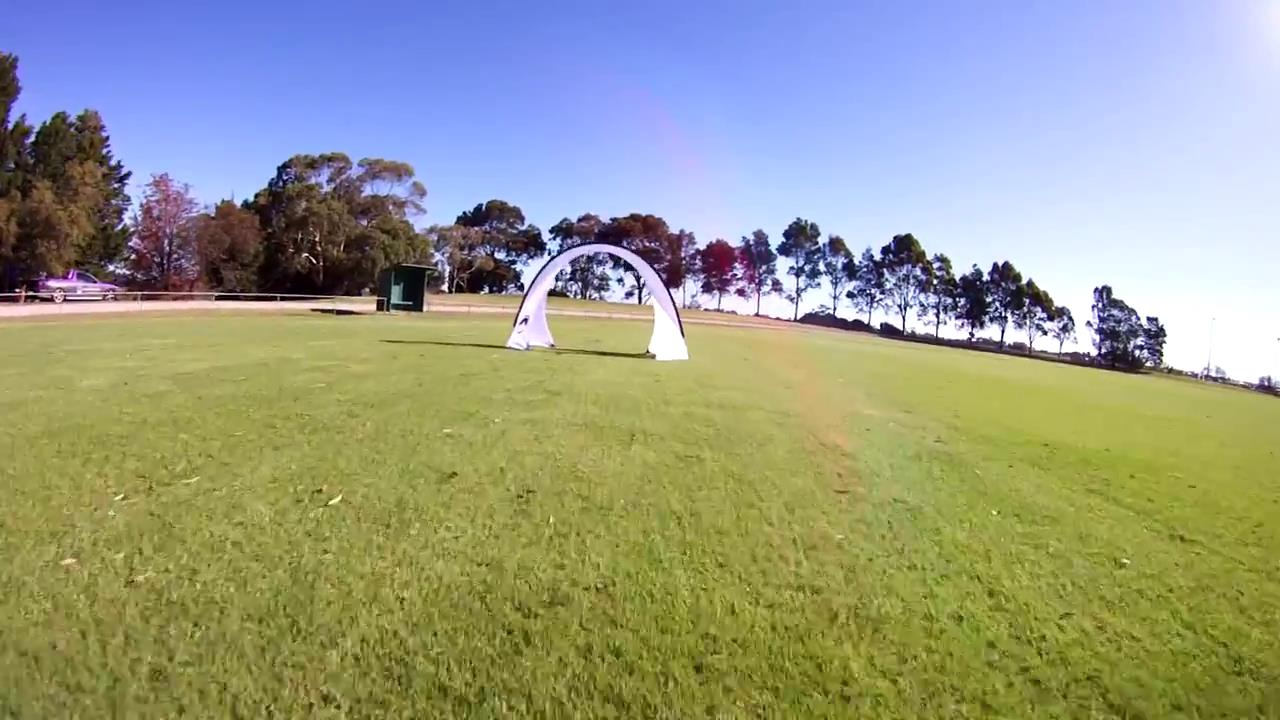gate: (503, 242, 694, 364)
